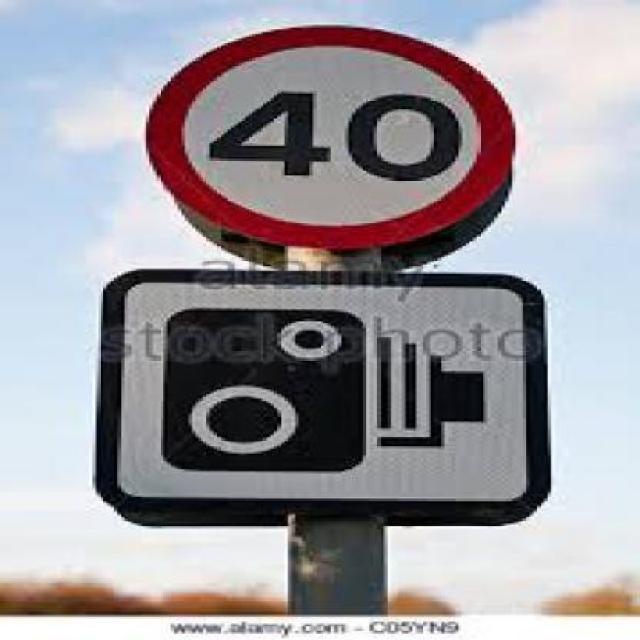forb_speed_over_40: (154, 27, 508, 247)
